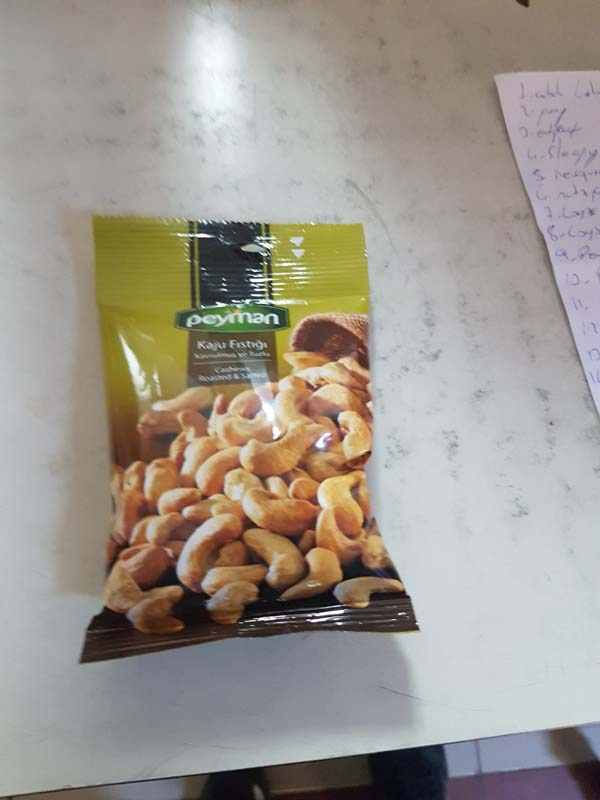kajupeyman: (79, 205, 422, 666)
